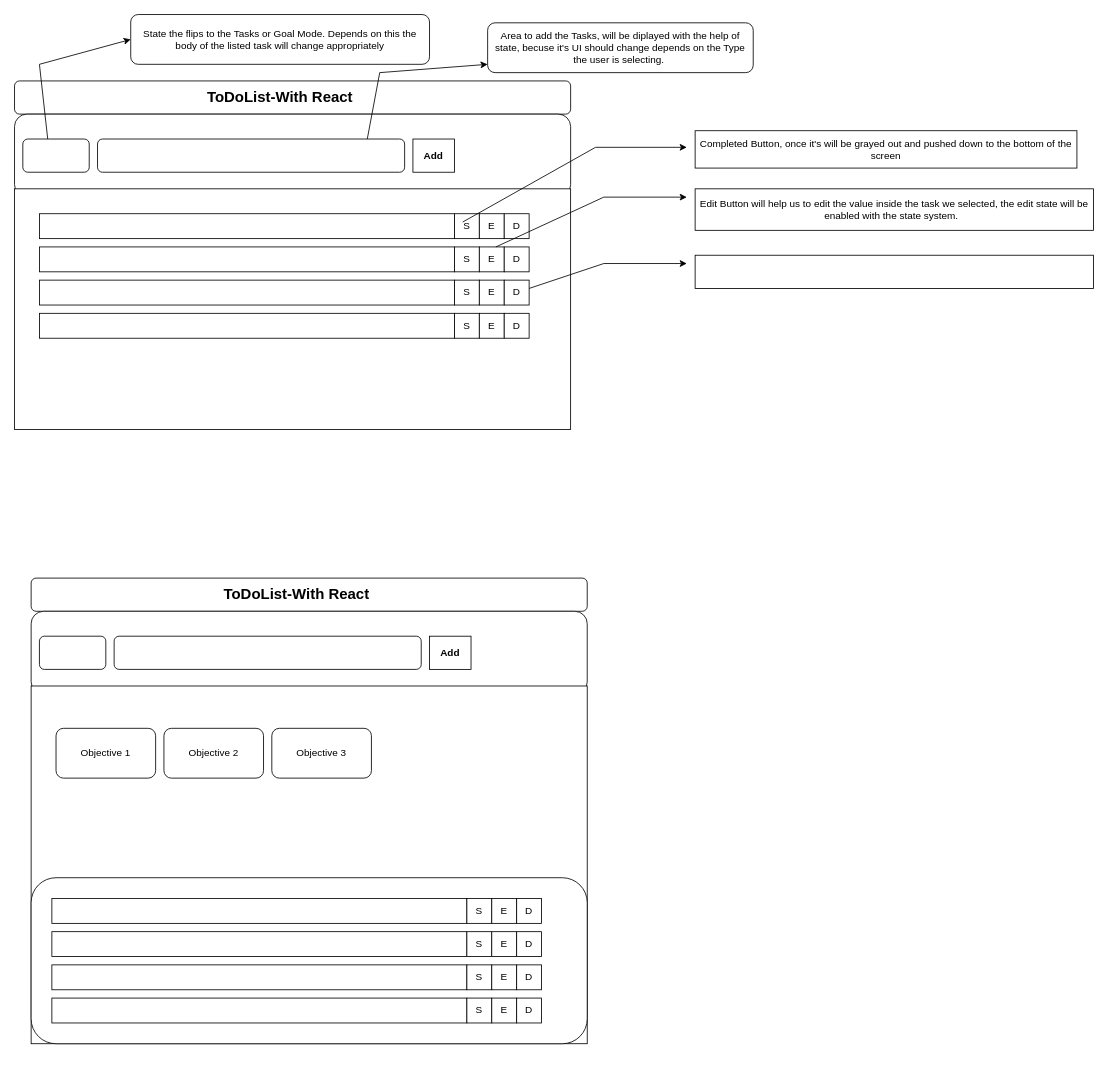
This 1108x1065 diagram has some shape labels left out. Each missing label, with the centre of its shape:
Delete Button, the option to remove the task from the list.: point 894,271
Goals: point 72,652
Taks: point 55,155
